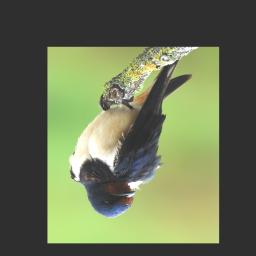Swallow: (68, 57, 193, 219)
